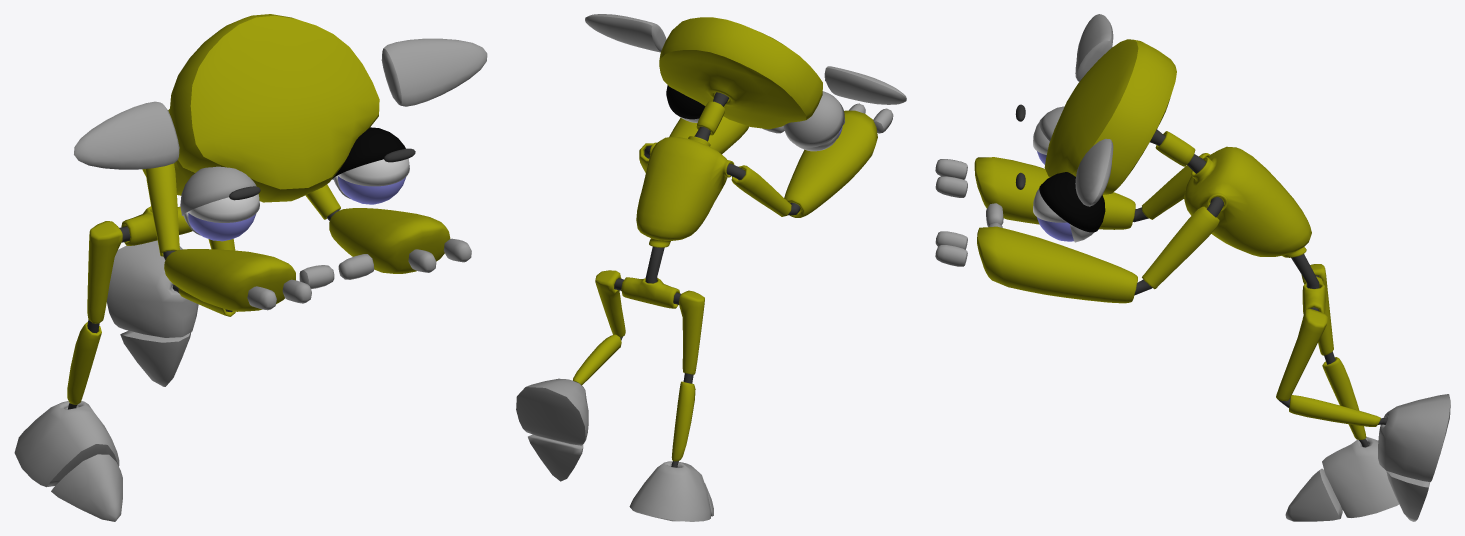
The model's file is push7.obj.
3 renders of one model, left to right at view 1: azimuth 30°, elevation 25°; view 2: azimuth 150°, elevation 25°; view 3: azimuth 270°, elevation 25°, orthographic. The views are drawn at different scales.
Parts seen in each view (by area): view 1: Mesh polySurface50, Mesh polySurface10, Mesh polySurface37, Mesh polySurface18, Mesh polySurface47, Mesh polySurface26, Mesh polySurface44, Mesh polySurface48, Mesh polySurface24, Mesh polySurface28, Mesh polySurface38, Mesh polySurface21 (+15 smaller); view 2: Mesh polySurface41, Mesh polySurface49, Mesh polySurface48, Mesh polySurface37, Mesh polySurface26, Mesh polySurface9, Mesh polySurface21, Mesh polySurface45, Mesh polySurface28, Mesh polySurface42, Mesh polySurface7, Mesh polySurface38 (+9 smaller); view 3: Mesh polySurface41, Mesh polySurface18, Mesh polySurface50, Mesh polySurface48, Mesh polySurface10, Mesh polySurface37, Mesh polySurface26, Mesh polySurface51, Mesh polySurface4, Mesh polySurface12, Mesh polySurface24, Mesh polySurface44 (+8 smaller).
Boxes of the visible parts, x1,y1,x2,y2 form: Mesh polySurface50: (190, 15, 379, 189); Mesh polySurface10: (106, 240, 198, 337); Mesh polySurface37: (164, 249, 295, 311); Mesh polySurface18: (329, 208, 450, 273); Mesh polySurface47: (74, 101, 178, 169); Mesh polySurface26: (14, 401, 119, 486); Mesh polySurface44: (383, 38, 487, 106); Mesh polySurface48: (169, 14, 378, 202); Mesh polySurface24: (51, 454, 122, 521); Mesh polySurface28: (87, 221, 122, 323); Mesh polySurface38: (145, 163, 179, 256); Mesh polySurface21: (180, 166, 256, 215); Mesh polySurface41: (636, 136, 734, 247); Mesh polySurface49: (659, 50, 806, 129); Mesh polySurface48: (659, 17, 822, 119); Mesh polySurface37: (784, 110, 877, 217); Mesh polySurface26: (629, 461, 710, 521); Mesh polySurface9: (516, 387, 585, 445); Mesh polySurface21: (783, 91, 844, 147); Mesh polySurface45: (825, 68, 906, 104); Mesh polySurface28: (679, 290, 704, 374); Mesh polySurface42: (585, 16, 660, 52); Mesh polySurface7: (528, 434, 583, 481); Mesh polySurface38: (731, 165, 791, 216); Mesh polySurface41: (1184, 146, 1311, 257); Mesh polySurface18: (977, 226, 1137, 303); Mesh polySurface50: (1044, 39, 1138, 176); Mesh polySurface48: (1048, 39, 1176, 194); Mesh polySurface10: (1378, 394, 1450, 482); Mesh polySurface37: (974, 157, 1135, 229); Mesh polySurface26: (1322, 437, 1398, 517); Mesh polySurface51: (1142, 206, 1219, 289); Mesh polySurface4: (1039, 172, 1105, 232); Mesh polySurface12: (1276, 308, 1327, 400); Mesh polySurface24: (1285, 470, 1340, 521); Mesh polySurface44: (1075, 138, 1111, 205).
Size of the model in its own units: 10.05 by 12.79 by 12.01.
